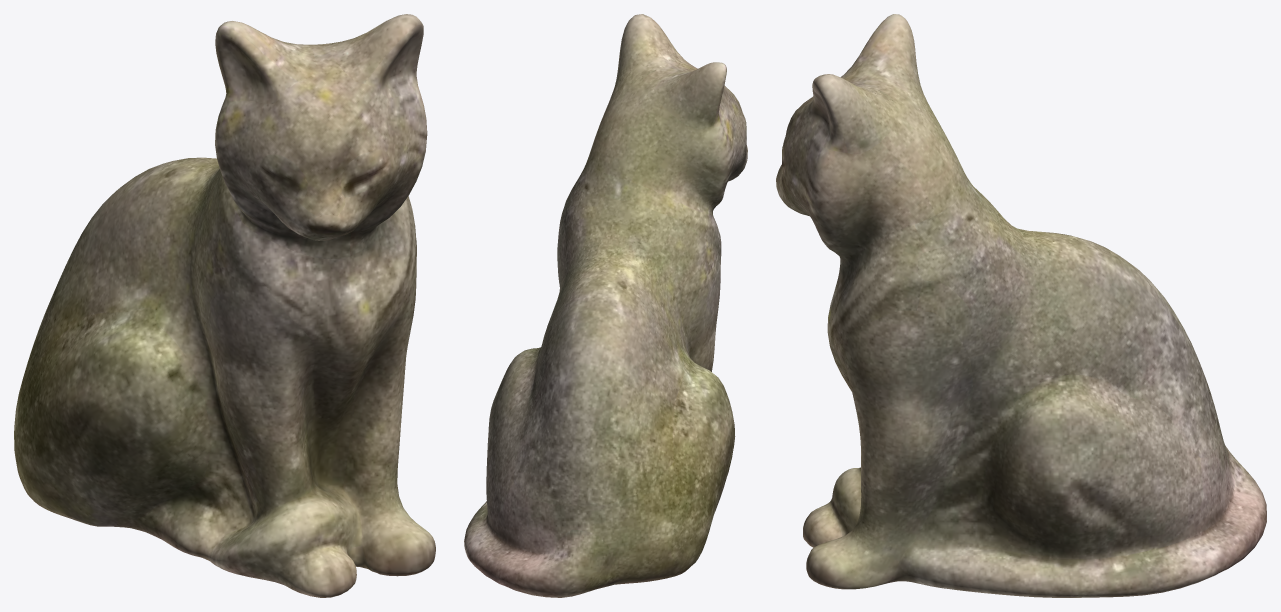
The model's file is concrete_cat_statue.glb.
3 views of the same model, side by side, from view 1: azimuth 30°, elevation 25°; view 2: azimuth 150°, elevation 25°; view 3: azimuth 270°, elevation 25° (orthographic). The views are drawn at different scales.
Parts seen in each view (by area): view 1: concrete_cat_statue; view 2: concrete_cat_statue; view 3: concrete_cat_statue.
Boxes of the visible parts, bbox=[...] form: concrete_cat_statue: bbox=[14, 14, 435, 597]; concrete_cat_statue: bbox=[464, 14, 747, 597]; concrete_cat_statue: bbox=[776, 14, 1266, 597].
Size of the model in its own units: 0.153 by 0.283 by 0.25.
Materials: 1 (1 with a texture image).
